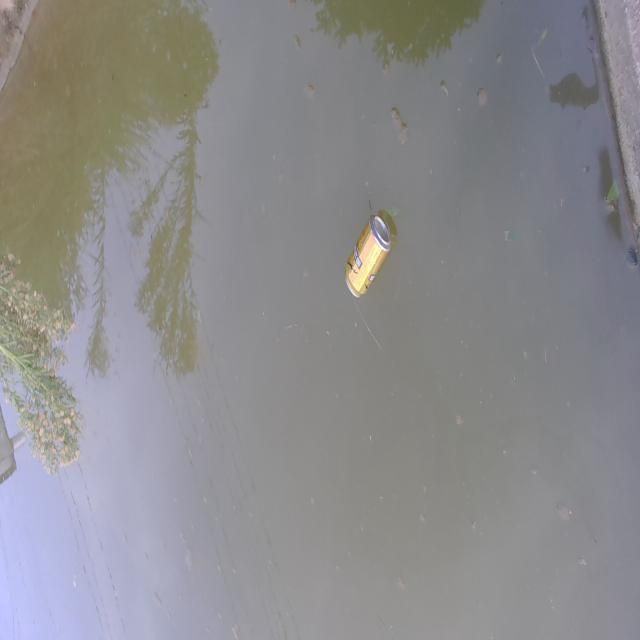garbage: (344, 211, 392, 298)
